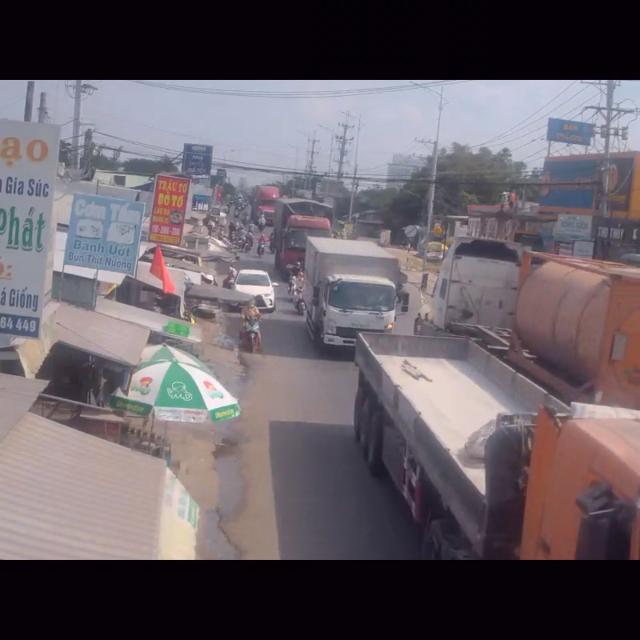car: (228, 267, 276, 304)
motorbike: (238, 301, 262, 352)
truck: (350, 336, 640, 561), (413, 237, 638, 376), (306, 235, 408, 356)
